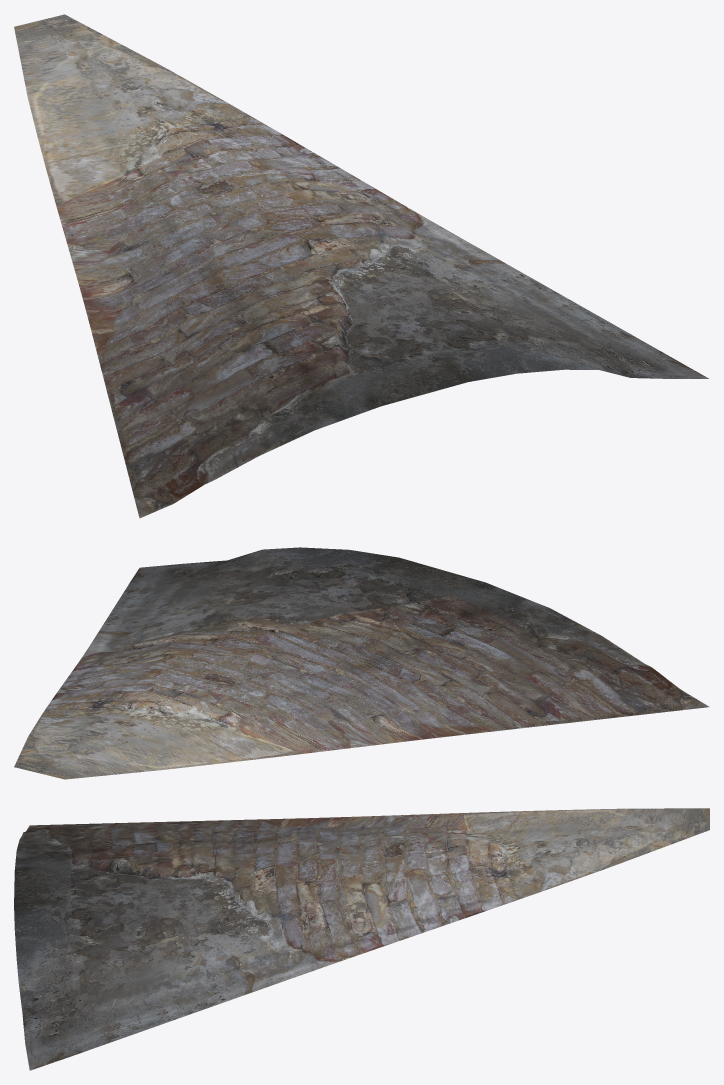
The model's file is SM_CryptCeiling_02_01.fbx.
The picture shows the model from 3 angles, top to bottom: view 1: azimuth 30°, elevation 25°; view 2: azimuth 150°, elevation 25°; view 3: azimuth 270°, elevation 25°; orthographic projection. The views are drawn at different scales.
Parts seen in each view (by area): view 1: sm_CryptCeiling_02_01_LOD0; view 2: sm_CryptCeiling_02_01_LOD0; view 3: sm_CryptCeiling_02_01_LOD0.
Boxes of the visible parts, bbox=[...] form: sm_CryptCeiling_02_01_LOD0: bbox=[14, 14, 708, 518]; sm_CryptCeiling_02_01_LOD0: bbox=[14, 547, 709, 779]; sm_CryptCeiling_02_01_LOD0: bbox=[14, 808, 709, 1070].
Bounding box in the file's own units: 300 × 251 × 61.44.
